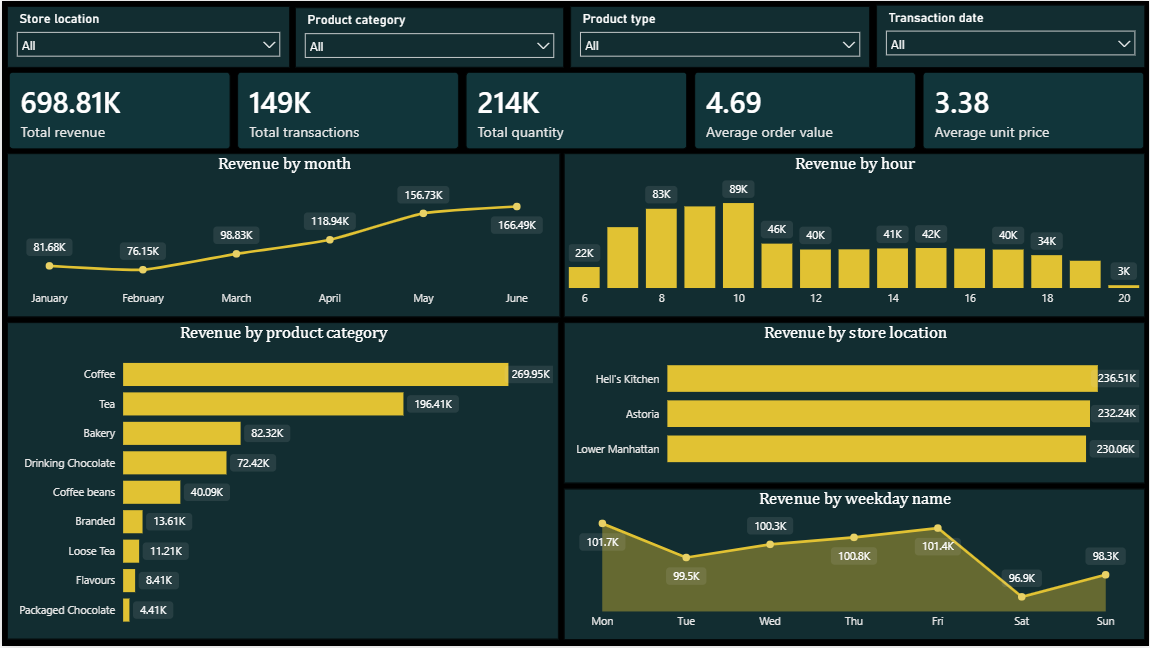

The page's visual inventory and layout, read from the dashboard file:
{"tool":"powerbi","page":{"name":"Executive Sales Overview","canvas":[1280,720],"ordinal":0},"visuals":[{"type":"cardVisual","fields":{"Data":["Transactions.total revenue","Transactions.total teansactions","Transactions.total quantity","Transactions.average_order_value","Transactions.average_unit_price"]},"box":[5.7,77.1,1270,90],"z":0},{"type":"lineChart","title":"Revenue by month","fields":{"Y":["Transactions.total revenue"],"Category":["Transactions.month_name"]},"box":[5.7,170,617.1,182.9],"z":1000},{"type":"barChart","title":"Revenue by store location","fields":{"Category":["Transactions.store_location"],"Y":["Transactions.total revenue"]},"box":[627.1,358.6,648.6,180],"z":2000},{"type":"barChart","title":"Revenue by product category","fields":{"Y":["Transactions.total revenue"],"Category":["Transactions.product_category"]},"box":[5.7,358.6,615.7,354.3],"z":3000},{"type":"areaChart","title":"Revenue by weekday name","fields":{"Y":["Transactions.total revenue"],"Category":["Transactions.weekday name"]},"box":[627.1,544.3,648.6,168.6],"z":4000},{"type":"columnChart","title":"Revenue by hour","fields":{"Category":["Transactions.hour"],"Y":["Transactions.total revenue"]},"box":[627.1,170,648.6,182.9],"z":5000},{"type":"slicer","fields":{"Values":["Transactions.store_location"]},"box":[5.7,5.7,315.7,68.6],"z":6000},{"type":"slicer","fields":{"Values":["Transactions.product_type"]},"box":[634.3,5.7,334.3,68.6],"z":7000},{"type":"slicer","fields":{"Values":["Transactions.product_category"]},"box":[327.1,7.1,300,67.1],"z":8000},{"type":"slicer","fields":{"Values":["Transactions.transaction_date"]},"box":[975.7,4.3,300,70],"z":9000}]}

Visuals, with their boxes in screenshot pixels (x1, y1, x2, y2), scaled from the page's 1280x720 canvas onto the 1150x648 screenshot:
cardVisual - Transactions.total revenue x Transactions.total teansactions: pyautogui.locateOnScreen(5, 69, 1146, 150)
"Revenue by month" lineChart: pyautogui.locateOnScreen(5, 153, 560, 318)
"Revenue by store location" barChart: pyautogui.locateOnScreen(563, 323, 1146, 485)
"Revenue by product category" barChart: pyautogui.locateOnScreen(5, 323, 558, 642)
"Revenue by weekday name" areaChart: pyautogui.locateOnScreen(563, 490, 1146, 642)
"Revenue by hour" columnChart: pyautogui.locateOnScreen(563, 153, 1146, 318)
slicer - Transactions.store_location: pyautogui.locateOnScreen(5, 5, 289, 67)
slicer - Transactions.product_type: pyautogui.locateOnScreen(570, 5, 870, 67)
slicer - Transactions.product_category: pyautogui.locateOnScreen(294, 6, 563, 67)
slicer - Transactions.transaction_date: pyautogui.locateOnScreen(877, 4, 1146, 67)
